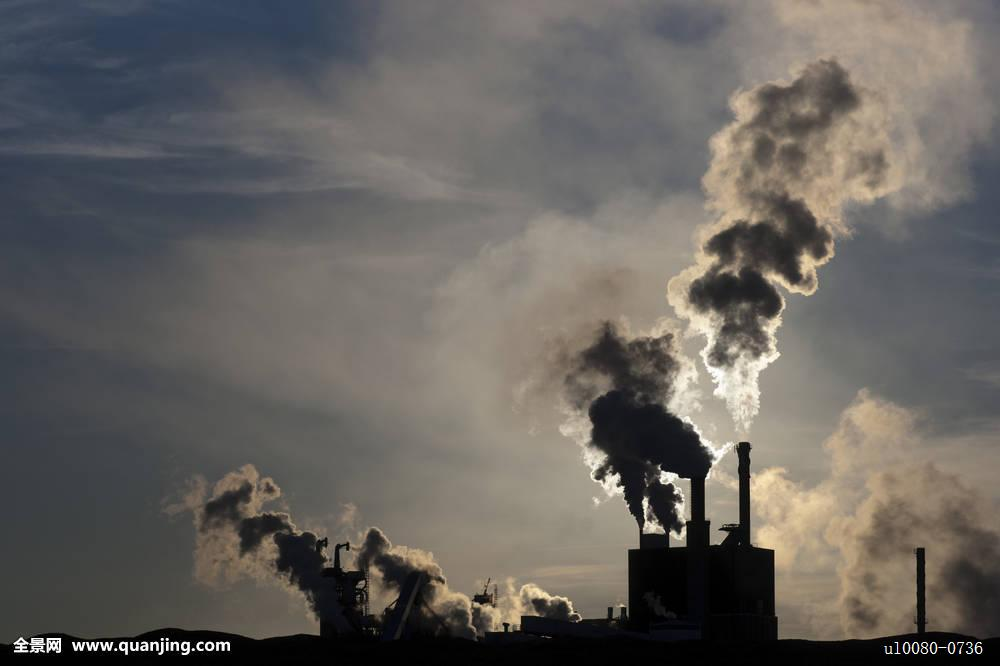dust: (685, 67, 856, 470), (564, 299, 716, 527)
